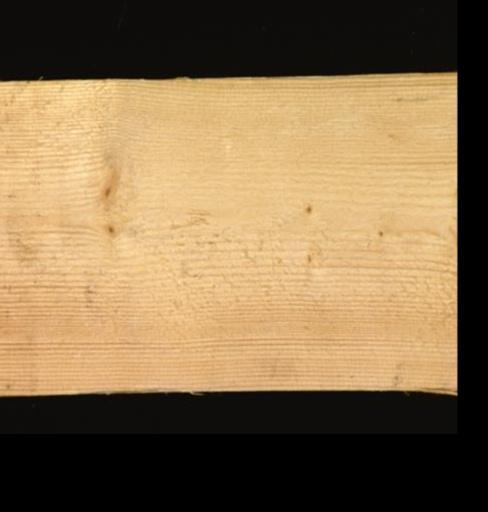small_knot: (90, 172, 123, 205), (95, 217, 127, 245), (366, 220, 393, 245), (295, 241, 320, 266), (296, 198, 321, 217)
